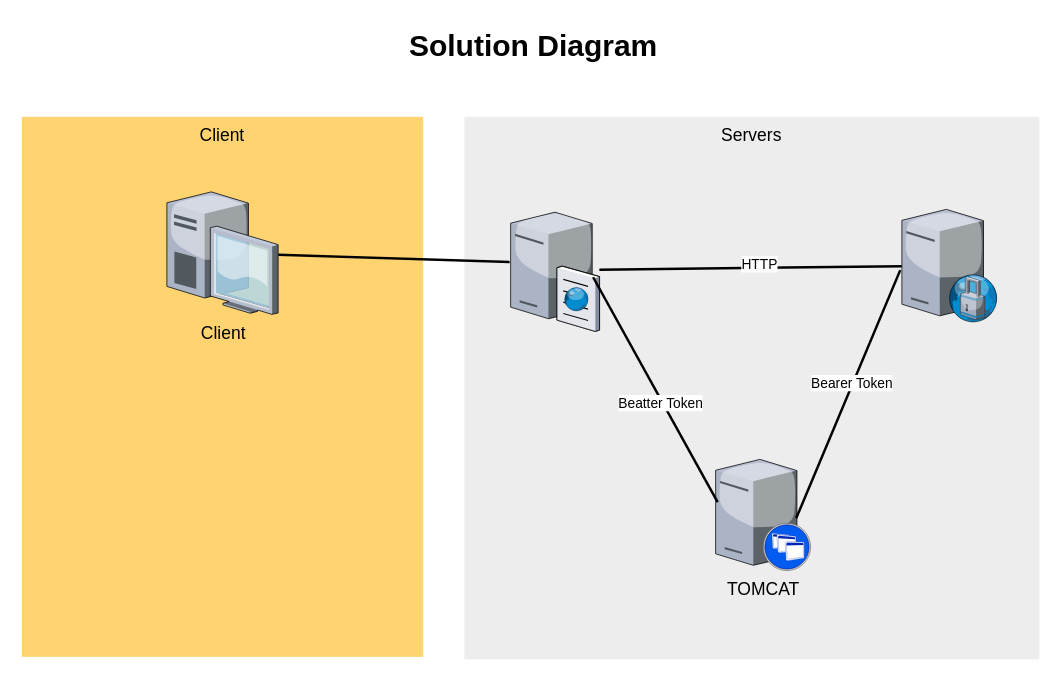
Some shapes in this 1060 by 680 pixel diagram are drawn without their labels. The shapes that lost their labels are listed below. From the top down, each one's box as (x1, y1, x2, y2) in pixels, then its label:
(510, 209, 599, 331): HTTPD
(901, 209, 997, 321): KEYCLOAK
